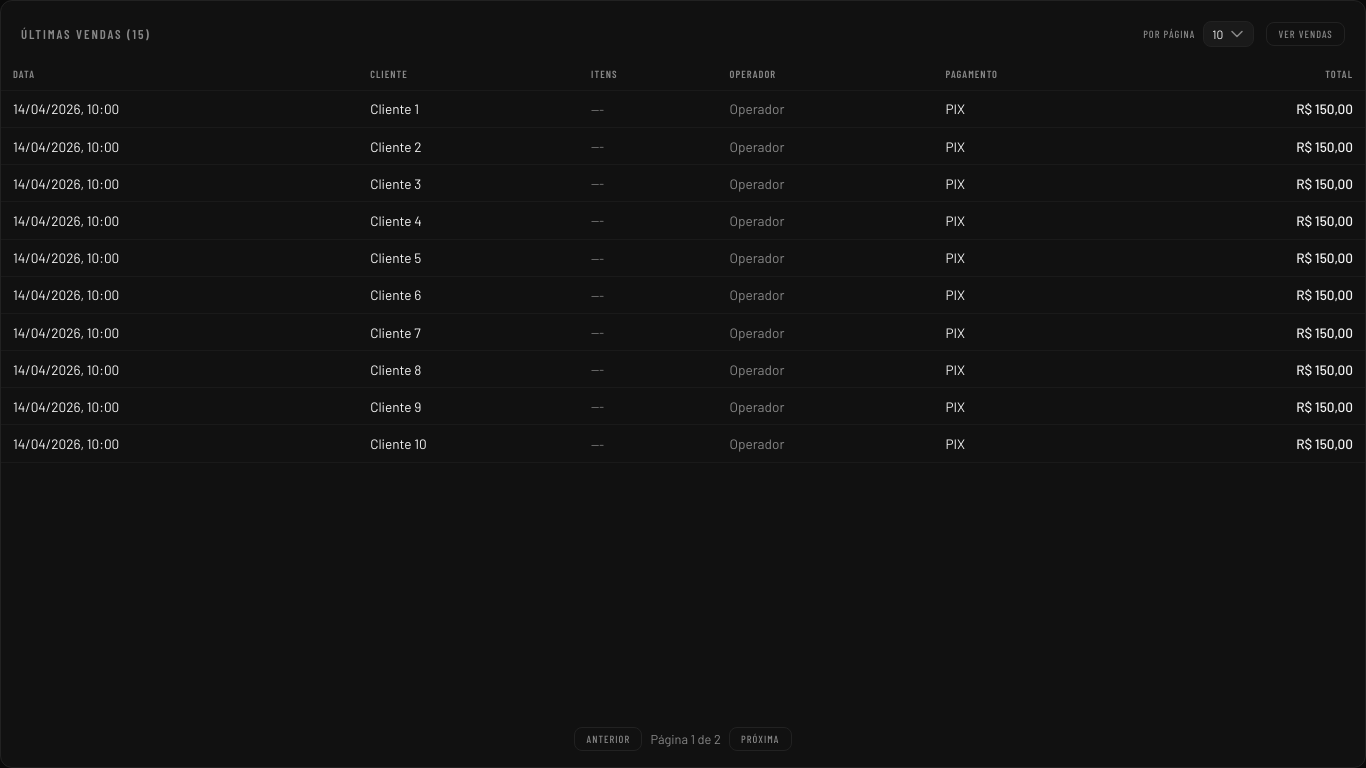
Test: RecentSalesWidget › respects the page size and paginates the rest
This screenshot has width=1366, height=768.
Expected: the text "Cliente 1" is shown, x1=358 y1=90 x2=579 y2=128
Expected: the text "Cliente 10" is shown, x1=358 y1=425 x2=579 y2=462
Click the button "Próxima".
click(760, 739)  # box x1=729 y1=727 x2=792 y2=751
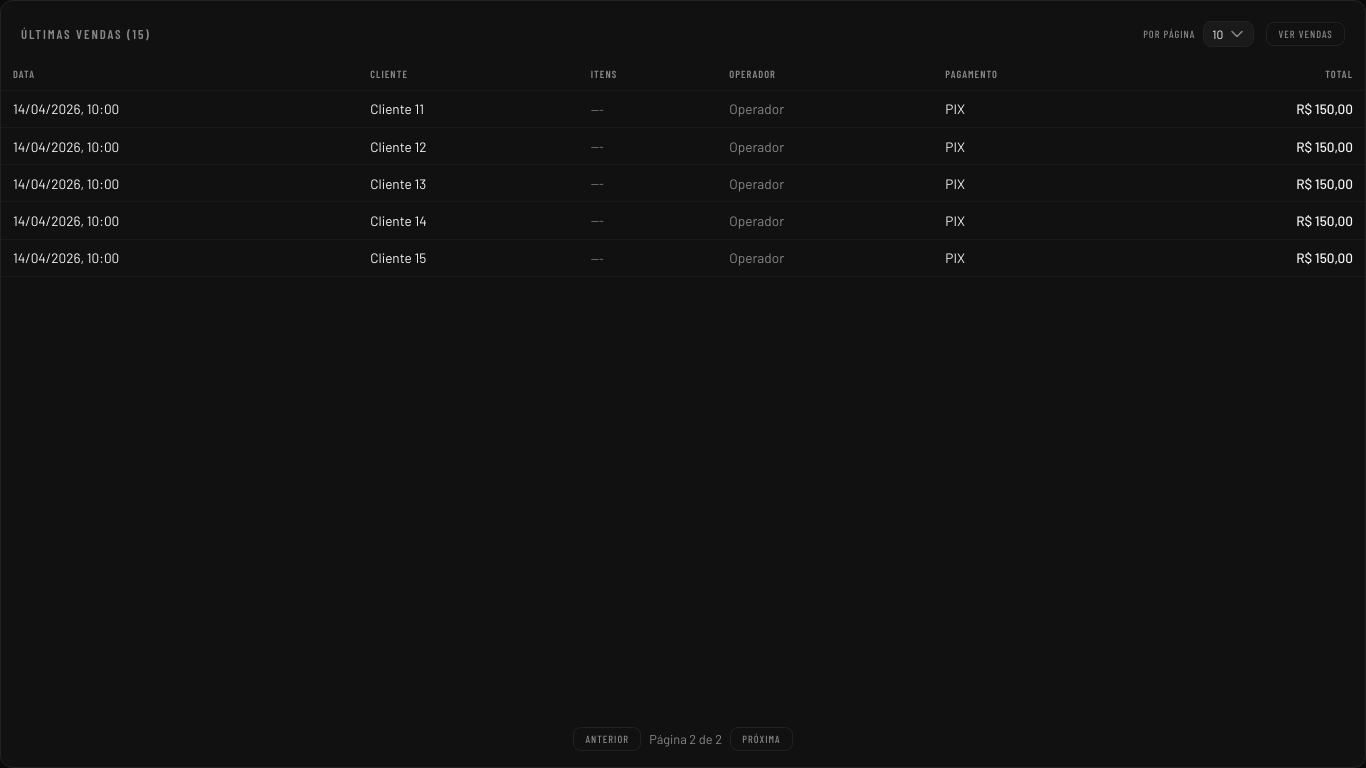
Expected: the text "Cliente 11" is shown, x1=358 y1=90 x2=579 y2=128
